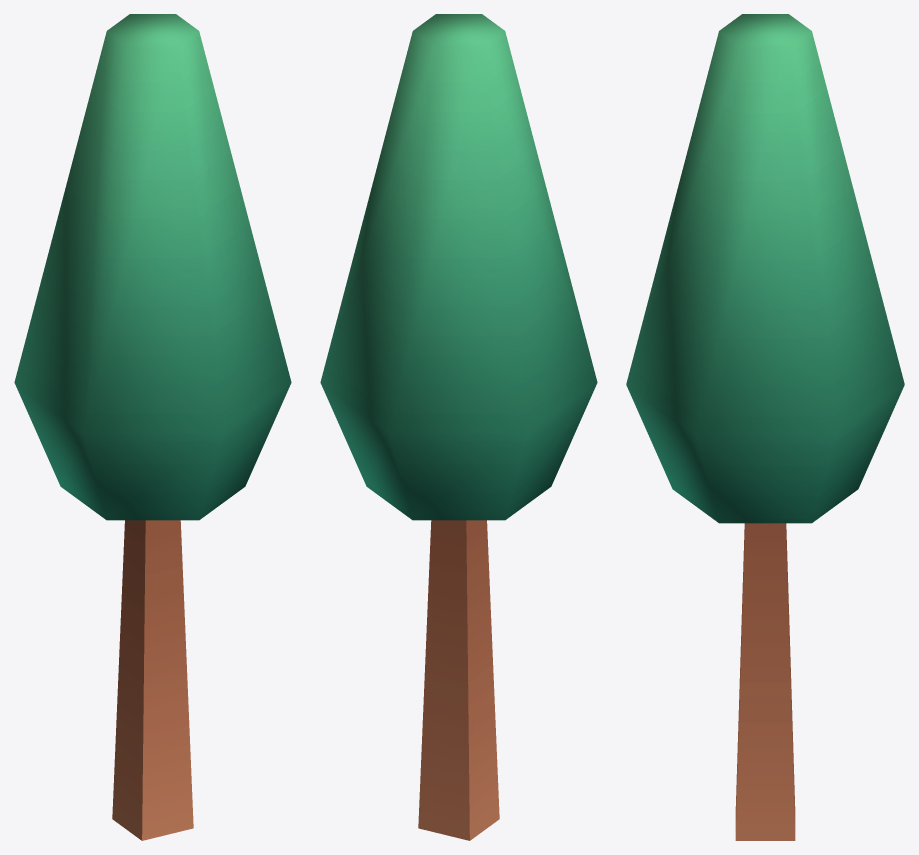
Rendered from u-tree-large.glb.
3 views of the same model, side by side, from view 1: azimuth 30°, elevation 25°; view 2: azimuth 150°, elevation 25°; view 3: azimuth 270°, elevation 25° (orthographic).
Visible parts, largest first — view 1: tree-large; view 2: tree-large; view 3: tree-large.
Part boxes in pixels (x1=…): tree-large: x1=14, y1=14, x2=291, y2=840; tree-large: x1=320, y1=14, x2=597, y2=840; tree-large: x1=626, y1=14, x2=904, y2=840.
Size of the model in its own units: 0.2104 by 0.767 by 0.243.
Materials: 1 (1 with a texture image).
